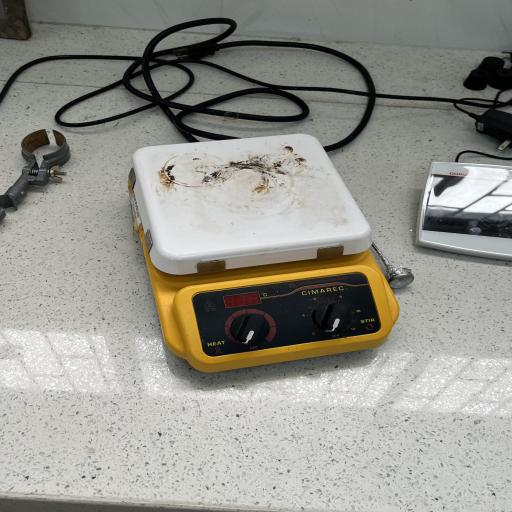Plancha_Agitacion_Cimarec: (117, 121, 406, 372)
